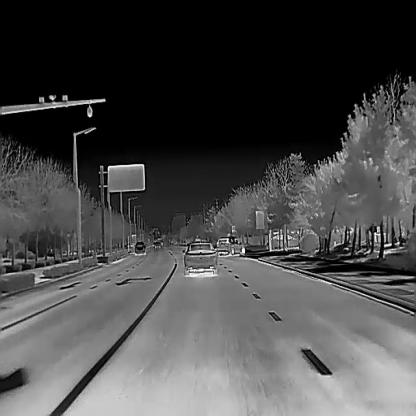car: (183, 242, 216, 275), (216, 236, 244, 254), (264, 233, 296, 247), (134, 240, 145, 252), (152, 240, 160, 250)
